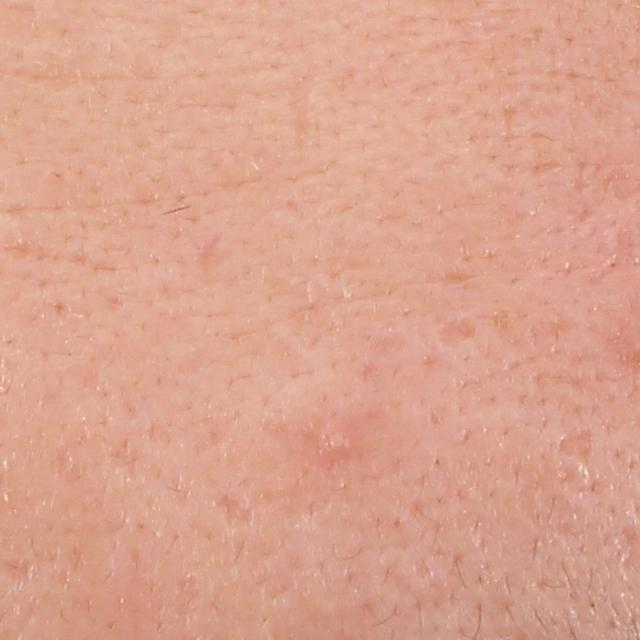atrophic_scar: (213, 495, 257, 532), (556, 426, 594, 464), (435, 319, 476, 345)
